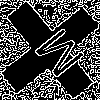M: (25, 25, 87, 87)
